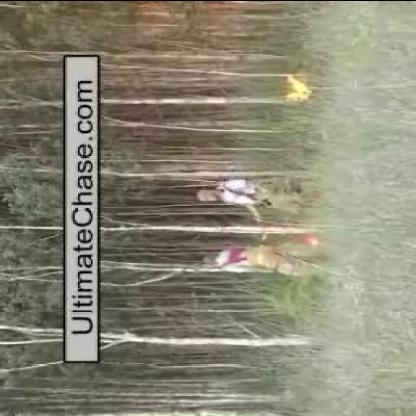foggia-v2-map80-epoch100 - v1 4323: (285, 73, 311, 100)
